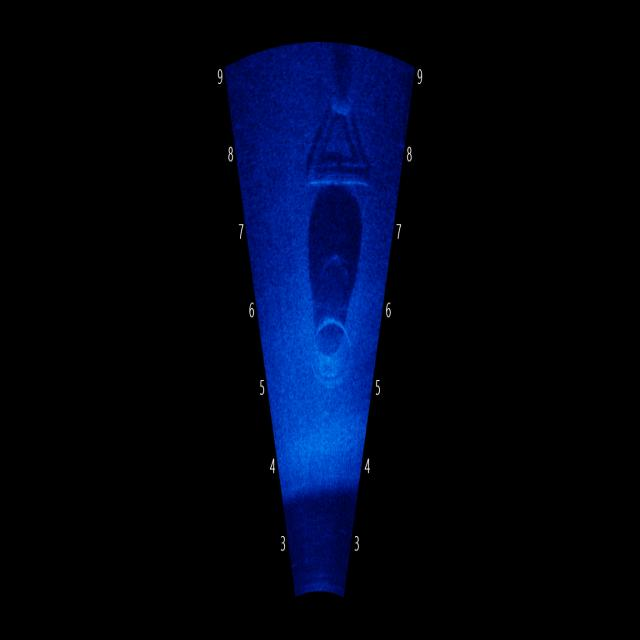circle: (301, 304, 358, 406)
triangle: (295, 58, 380, 206)
